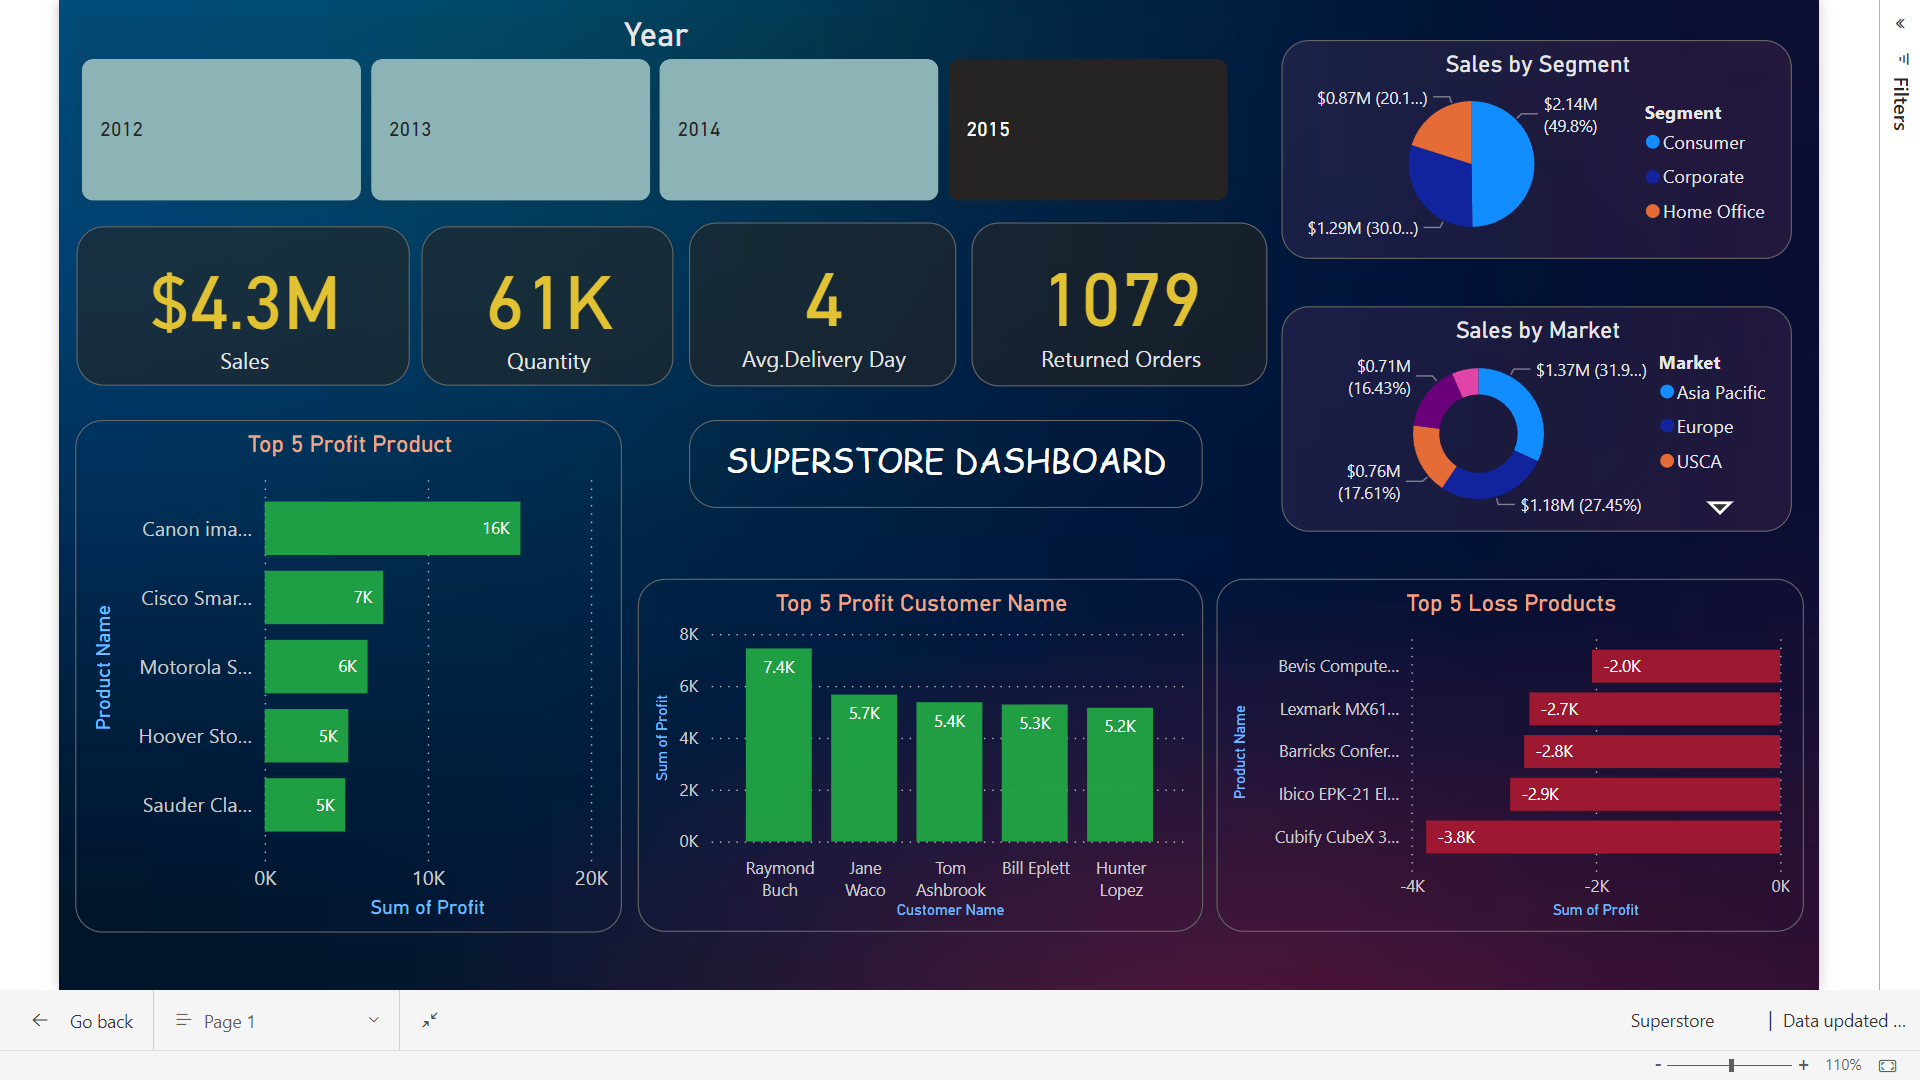

The page's visual inventory and layout, read from the dashboard file:
{"tool":"powerbi","page":{"name":"Page 1","canvas":[1280,720],"ordinal":0},"visuals":[{"type":"card","fields":{"Values":["Sum(Orders.Sales)"]},"box":[12.1,165.2,242.4,115.8],"z":0},{"type":"card","fields":{"Values":["Sum(Orders.Quantity)"]},"box":[262.9,165.2,183.3,115.8],"z":1000},{"type":"card","fields":{"Values":["Avg(Orders.Delivery Days)"]},"box":[458.3,165.2,194.2,118.2],"z":2000},{"type":"advancedSlicerVisual","title":"Year","fields":{"Values":["Orders.Order Year"]},"box":[12.1,10.9,844.2,141.1],"z":3000},{"type":"card","fields":{"Values":["Sum(Returns.Returned Column)"]},"box":[663.3,162.8,215.9,118.2],"z":4000},{"type":"barChart","title":"Top 5 Profit Product","fields":{"Category":["Orders.Product Name"],"Y":["Sum(Orders.Profit)"]},"box":[12.1,305.1,398,372.7],"z":5000},{"type":"barChart","title":"Top 5 Loss Products","fields":{"Category":["Orders.Product Name"],"Y":["Sum(Orders.Profit)"]},"box":[841.8,420.9,426.9,256.9],"z":6000},{"type":"pieChart","title":"Sales by Segment","fields":{"Category":["Orders.Segment"],"Y":["Sum(Orders.Sales)"]},"box":[888.8,28.9,371.5,159.2],"z":7000},{"type":"donutChart","title":"Sales by Market","fields":{"Y":["Sum(Orders.Sales)"],"Category":["Orders.Market"]},"box":[888.8,223.1,371.5,164],"z":8000},{"type":"columnChart","title":"Top 5 Profit Customer Name","fields":{"Category":["Orders.Customer Name"],"Y":["Sum(Orders.Profit)"]},"box":[420.9,420.9,411.3,256.9],"z":9000},{"type":"textbox","box":[458.3,305.1,373.9,63.9],"z":10000}]}

Visuals, with their boxes on the page's 1280x720 design canvas (x1, y1, x2, y2). These are canvas units, not pixel positions in the 1920x1080 screenshot, which may show the page scaled, cropped or inside an application window:
card - Sum(Orders.Sales): select_region(12, 165, 254, 281)
card - Sum(Orders.Quantity): select_region(263, 165, 446, 281)
card - Avg(Orders.Delivery Days): select_region(458, 165, 652, 283)
"Year" advancedSlicerVisual: select_region(12, 11, 856, 152)
card - Sum(Returns.Returned Column): select_region(663, 163, 879, 281)
"Top 5 Profit Product" barChart: select_region(12, 305, 410, 678)
"Top 5 Loss Products" barChart: select_region(842, 421, 1269, 678)
"Sales by Segment" pieChart: select_region(889, 29, 1260, 188)
"Sales by Market" donutChart: select_region(889, 223, 1260, 387)
"Top 5 Profit Customer Name" columnChart: select_region(421, 421, 832, 678)
textbox: select_region(458, 305, 832, 369)
